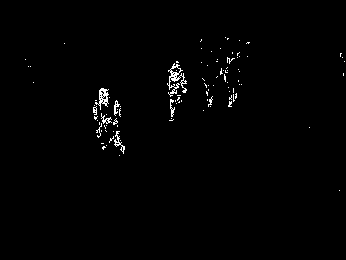person: (90, 86, 127, 155), (164, 58, 189, 123)
